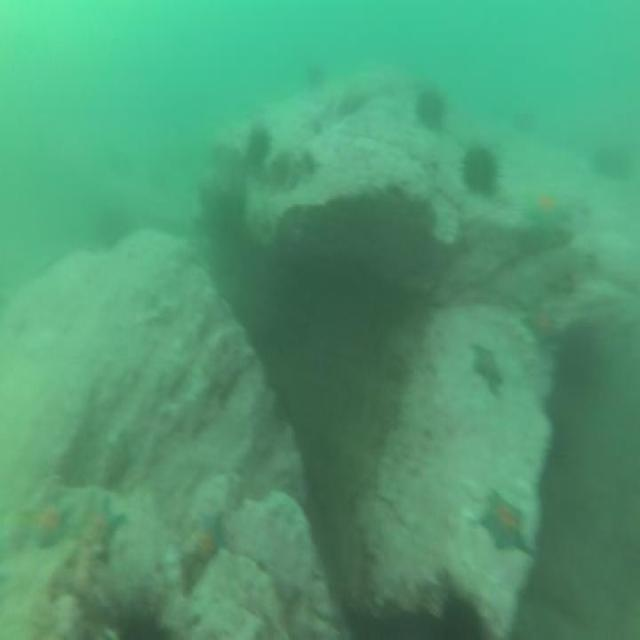echinus: (98, 591, 196, 640), (456, 141, 504, 207), (540, 392, 572, 471), (440, 584, 483, 640), (412, 82, 448, 138), (591, 137, 632, 185), (242, 122, 276, 178), (95, 206, 133, 252), (302, 57, 329, 92)
starfish: (67, 493, 129, 577), (475, 483, 535, 562), (22, 484, 75, 554), (519, 292, 565, 357), (188, 503, 230, 572), (524, 190, 572, 240), (467, 336, 505, 399)
